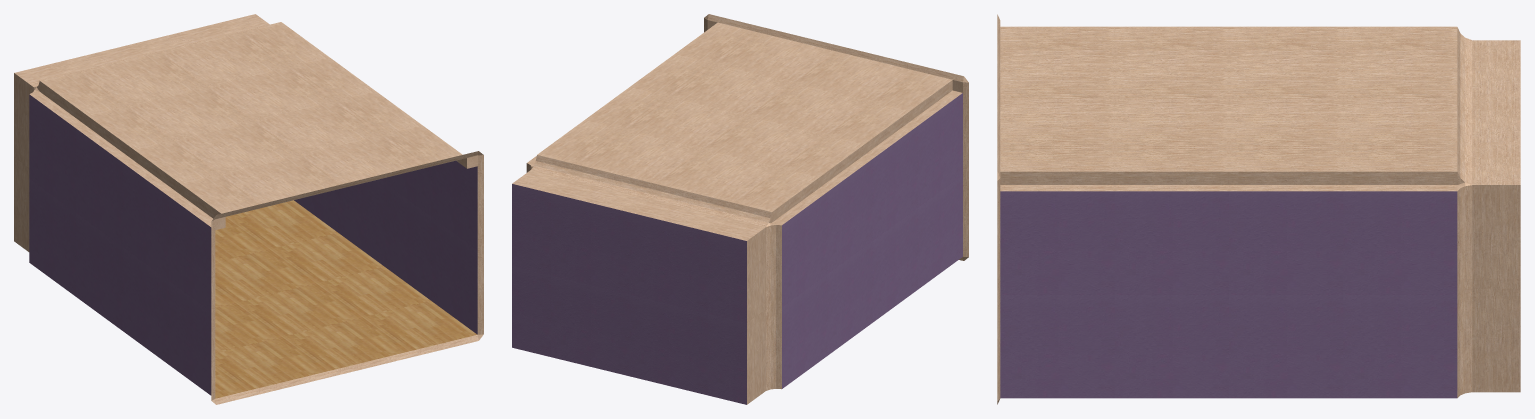
Rendered from bedroom.FBX.
3 renders of one model, left to right at view 1: azimuth 30°, elevation 25°; view 2: azimuth 150°, elevation 25°; view 3: azimuth 270°, elevation 25°, orthographic. The views are drawn at different scales.
Parts seen in each view (by area): view 1: Plane001; view 2: Plane001; view 3: Plane001.
Part boxes in pixels (x1,y1,x2,y2): Plane001: (14, 14, 483, 404); Plane001: (512, 14, 968, 404); Plane001: (997, 14, 1520, 404).
Size of the model in its own units: 339 by 226 by 458.
